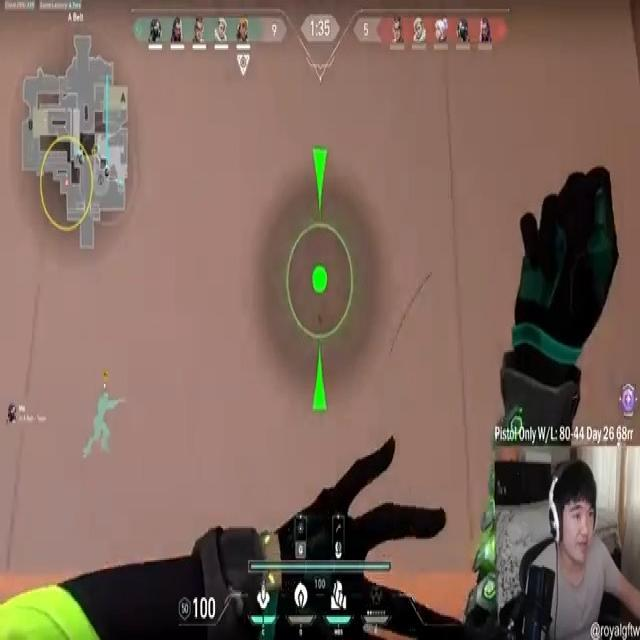ally behind wall: (81, 390, 127, 459)
